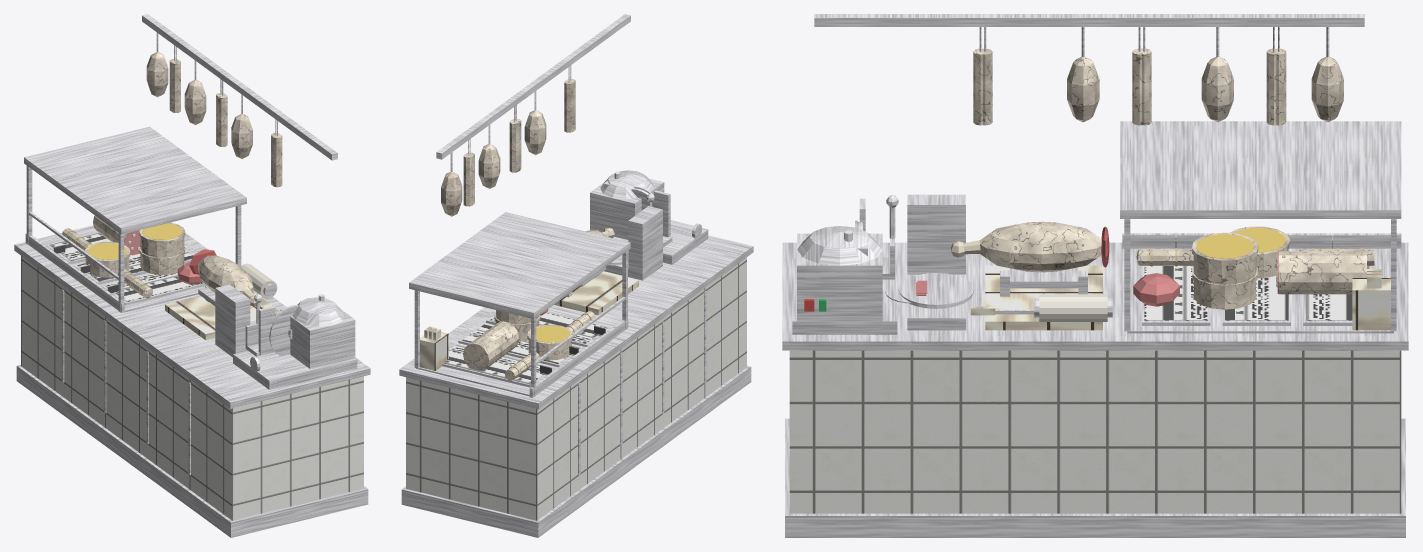
File: banco_affettati.obj
The picture shows the model from 3 angles, left to right: view 1: azimuth 30°, elevation 25°; view 2: azimuth 150°, elevation 25°; view 3: azimuth 270°, elevation 25°; orthographic projection. The views are drawn at different scales.
Parts seen in each view (by area): view 1: piastrelle_muro_000, metallo_005, metallo_002, metallo_001, crosta_016, metallo_027, metallo_015, metallo_007, metallo_021, crosta_035, stampa_a_008, legno_014 (+9 smaller); view 2: piastrelle_muro_000, metallo_005, metallo_002, metallo_001, metallo_027, metallo_015, legno_014, crosta_016, metallo_021, stampa_a_008, metallo_007, crosta_035 (+6 smaller); view 3: piastrelle_muro_000, metallo_005, metallo_002, metallo_001, crosta_016, metallo_015, metallo_027, metallo_021, legno_014, stampa_a_008, crosta_035, metallo_004 (+10 smaller).
Part boxes in pixels (x1,y1,x2,y2): piastrelle_muro_000: (21, 256, 363, 520); metallo_005: (24, 126, 276, 324); metallo_002: (14, 222, 370, 408); metallo_001: (16, 364, 368, 537); crosta_016: (146, 52, 253, 293); metallo_027: (280, 297, 355, 368); metallo_015: (142, 14, 337, 356); metallo_007: (46, 232, 357, 389); metallo_021: (215, 284, 250, 357); crosta_035: (169, 58, 282, 187); stampa_a_008: (50, 233, 203, 301); legno_014: (165, 292, 279, 340); piastrelle_muro_000: (406, 257, 746, 520); metallo_005: (409, 181, 630, 397); metallo_002: (399, 235, 753, 409); metallo_001: (401, 365, 751, 537); metallo_027: (590, 170, 664, 239); metallo_015: (436, 14, 653, 297); legno_014: (420, 271, 638, 370); crosta_016: (441, 110, 606, 236); metallo_021: (604, 206, 662, 280); stampa_a_008: (443, 312, 607, 384); metallo_007: (442, 220, 708, 387); crosta_035: (463, 79, 575, 206); piastrelle_muro_000: (789, 350, 1401, 513); metallo_005: (857, 121, 1401, 331); metallo_002: (782, 242, 1408, 350); metallo_001: (785, 418, 1405, 537); crosta_016: (979, 57, 1343, 272); metallo_015: (814, 14, 1364, 296); metallo_027: (797, 226, 882, 321); metallo_021: (885, 194, 965, 330); legno_014: (985, 265, 1390, 330); stampa_a_008: (1144, 266, 1369, 320); crosta_035: (973, 48, 1286, 125); metallo_004: (1127, 248, 1393, 333).
Bounding box in the file's own units: 0.96 × 2.28 × 2.56.
Materials: 40 (25 with a texture image).
